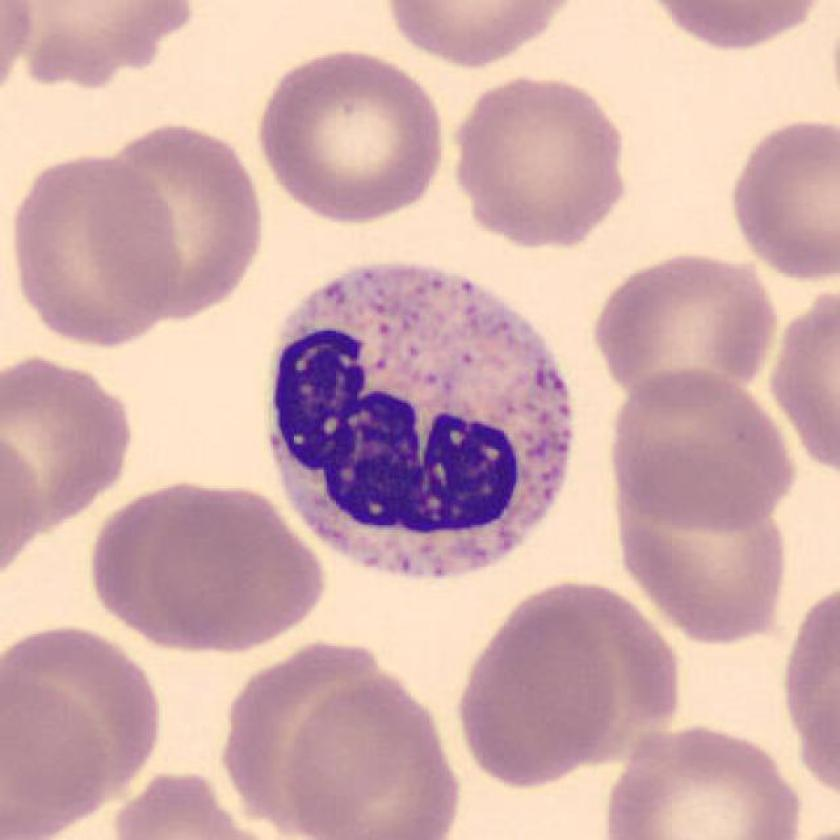neutrophil: (260, 269, 577, 582)
